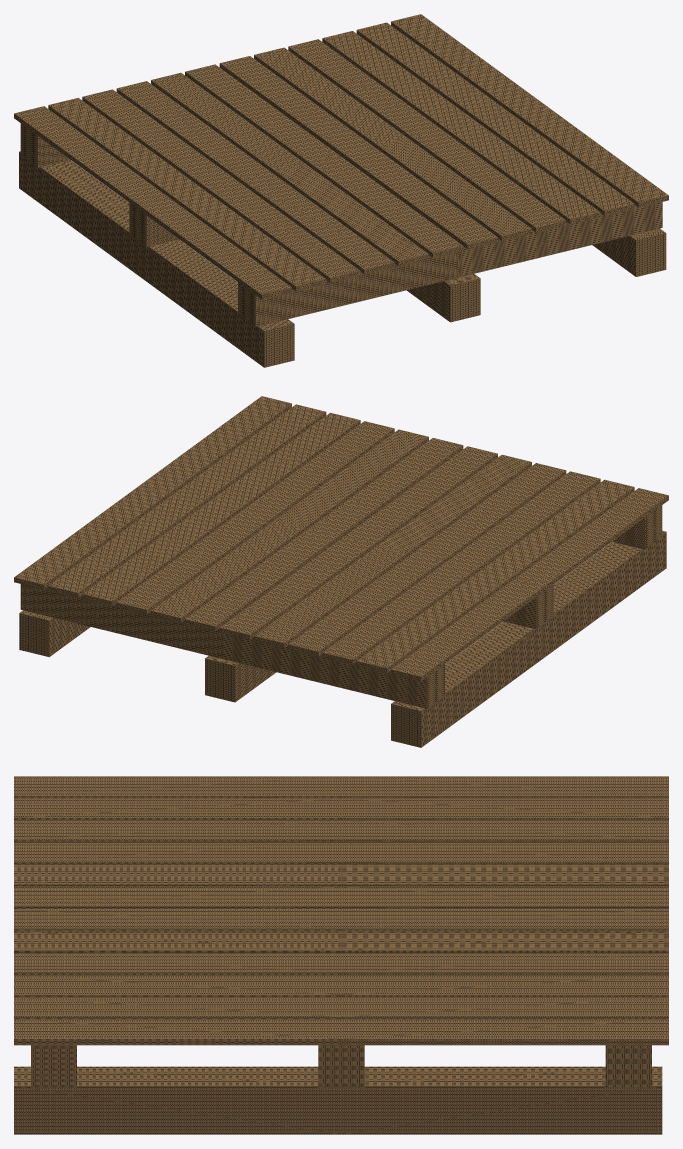
Rendered from Neoflycargo00.gltf.
3 renders of one model, top to bottom at view 1: azimuth 30°, elevation 25°; view 2: azimuth 150°, elevation 25°; view 3: azimuth 270°, elevation 25°, orthographic. The views are drawn at different scales.
Parts seen in each view (by area): view 1: Neoflycargo00; view 2: Neoflycargo00; view 3: Neoflycargo00.
Part boxes in pixels (x1=…): Neoflycargo00: x1=14, y1=14, x2=668, y2=367; Neoflycargo00: x1=14, y1=396, x2=668, y2=747; Neoflycargo00: x1=14, y1=776, x2=668, y2=1134.
Bounding box in the file's own units: 1.22 × 0.2106 × 1.28.
